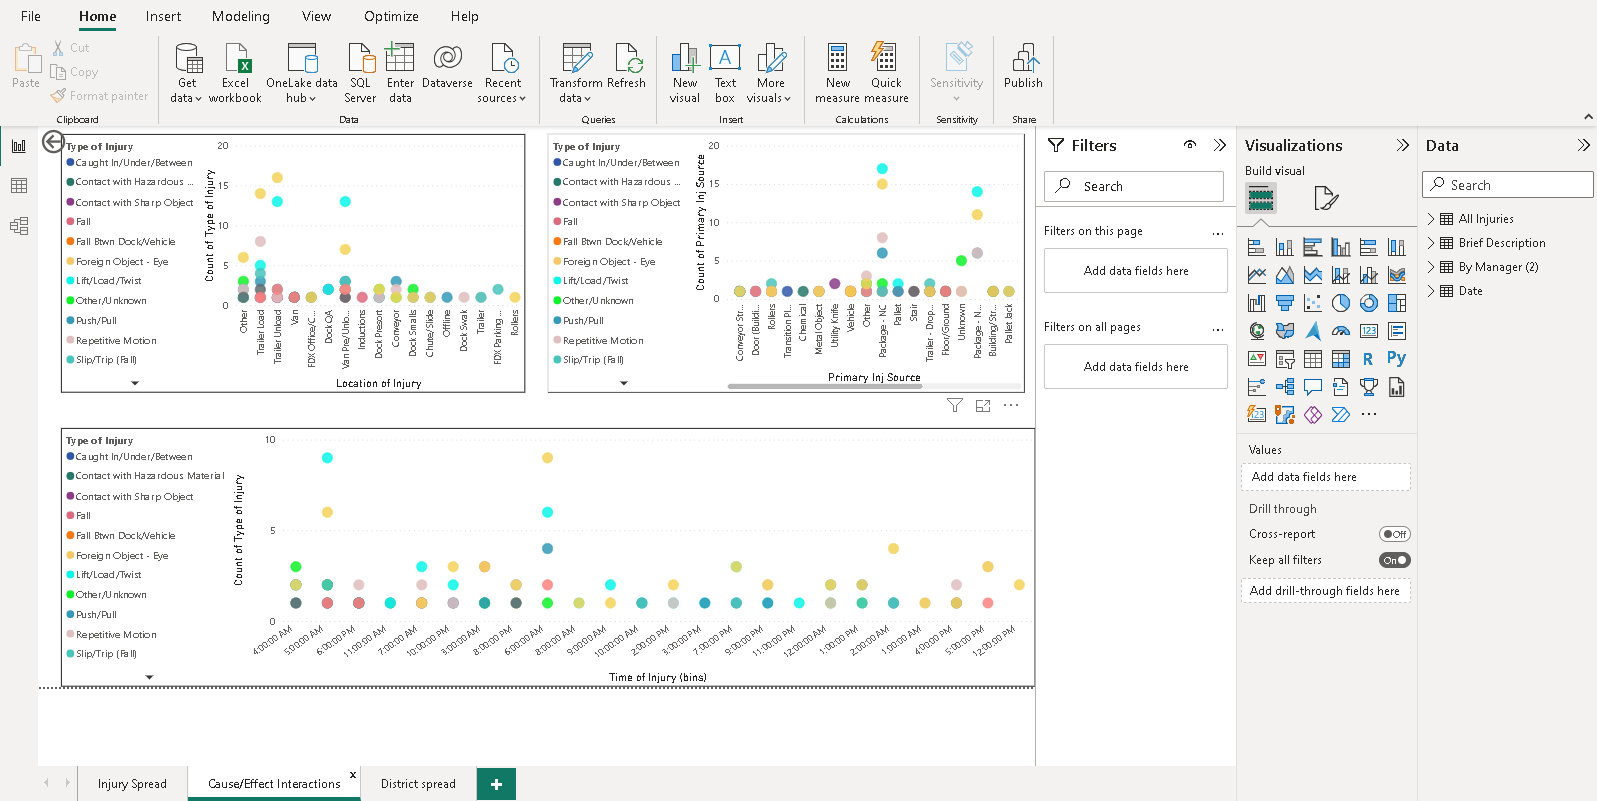

What the dashboard file says about the page in this screenshot:
{"tool":"powerbi","page":{"name":"Cause/Effect Interactions","canvas":[1280,720],"ordinal":1},"visuals":[{"type":"scatterChart","fields":{"X":["All Injuries.Location of Injury"],"Series":["All Injuries.Type of Injury"],"Y":["CountNonNull(All Injuries.Type of Injury)"]},"box":[29.2,9.7,596.2,331.7],"z":0},{"type":"actionButton","box":[0,0,100,40],"z":1000},{"type":"scatterChart","fields":{"Y":["CountNonNull(All Injuries.Primary Inj Source)"],"X":["All Injuries.Primary Inj Source"],"Series":["All Injuries.Type of Injury"]},"box":[654.6,9.7,611.8,331.7],"z":2000},{"type":"scatterChart","fields":{"X":["All Injuries.Time of Injury (bins)"],"Series":["All Injuries.Type of Injury"],"Y":["CountNonNull(All Injuries.Type of Injury)"]},"box":[29.2,388.1,1250.8,331.7],"z":3000}]}

Visuals, with their boxes on the page's 1280x720 design canvas (x1, y1, x2, y2). These are canvas units, not pixel positions in the 1597x801 screenshot, which may show the page scaled, cropped or inside an application window:
scatterChart - All Injuries.Location of Injury x All Injuries.Type of Injury: 29 10 625 341
actionButton: 0 0 100 40
scatterChart - CountNonNull(All Injuries.Primary Inj Source) x All Injuries.Primary Inj Source: 655 10 1266 341
scatterChart - All Injuries.Time of Injury (bins) x All Injuries.Type of Injury: 29 388 1280 720
